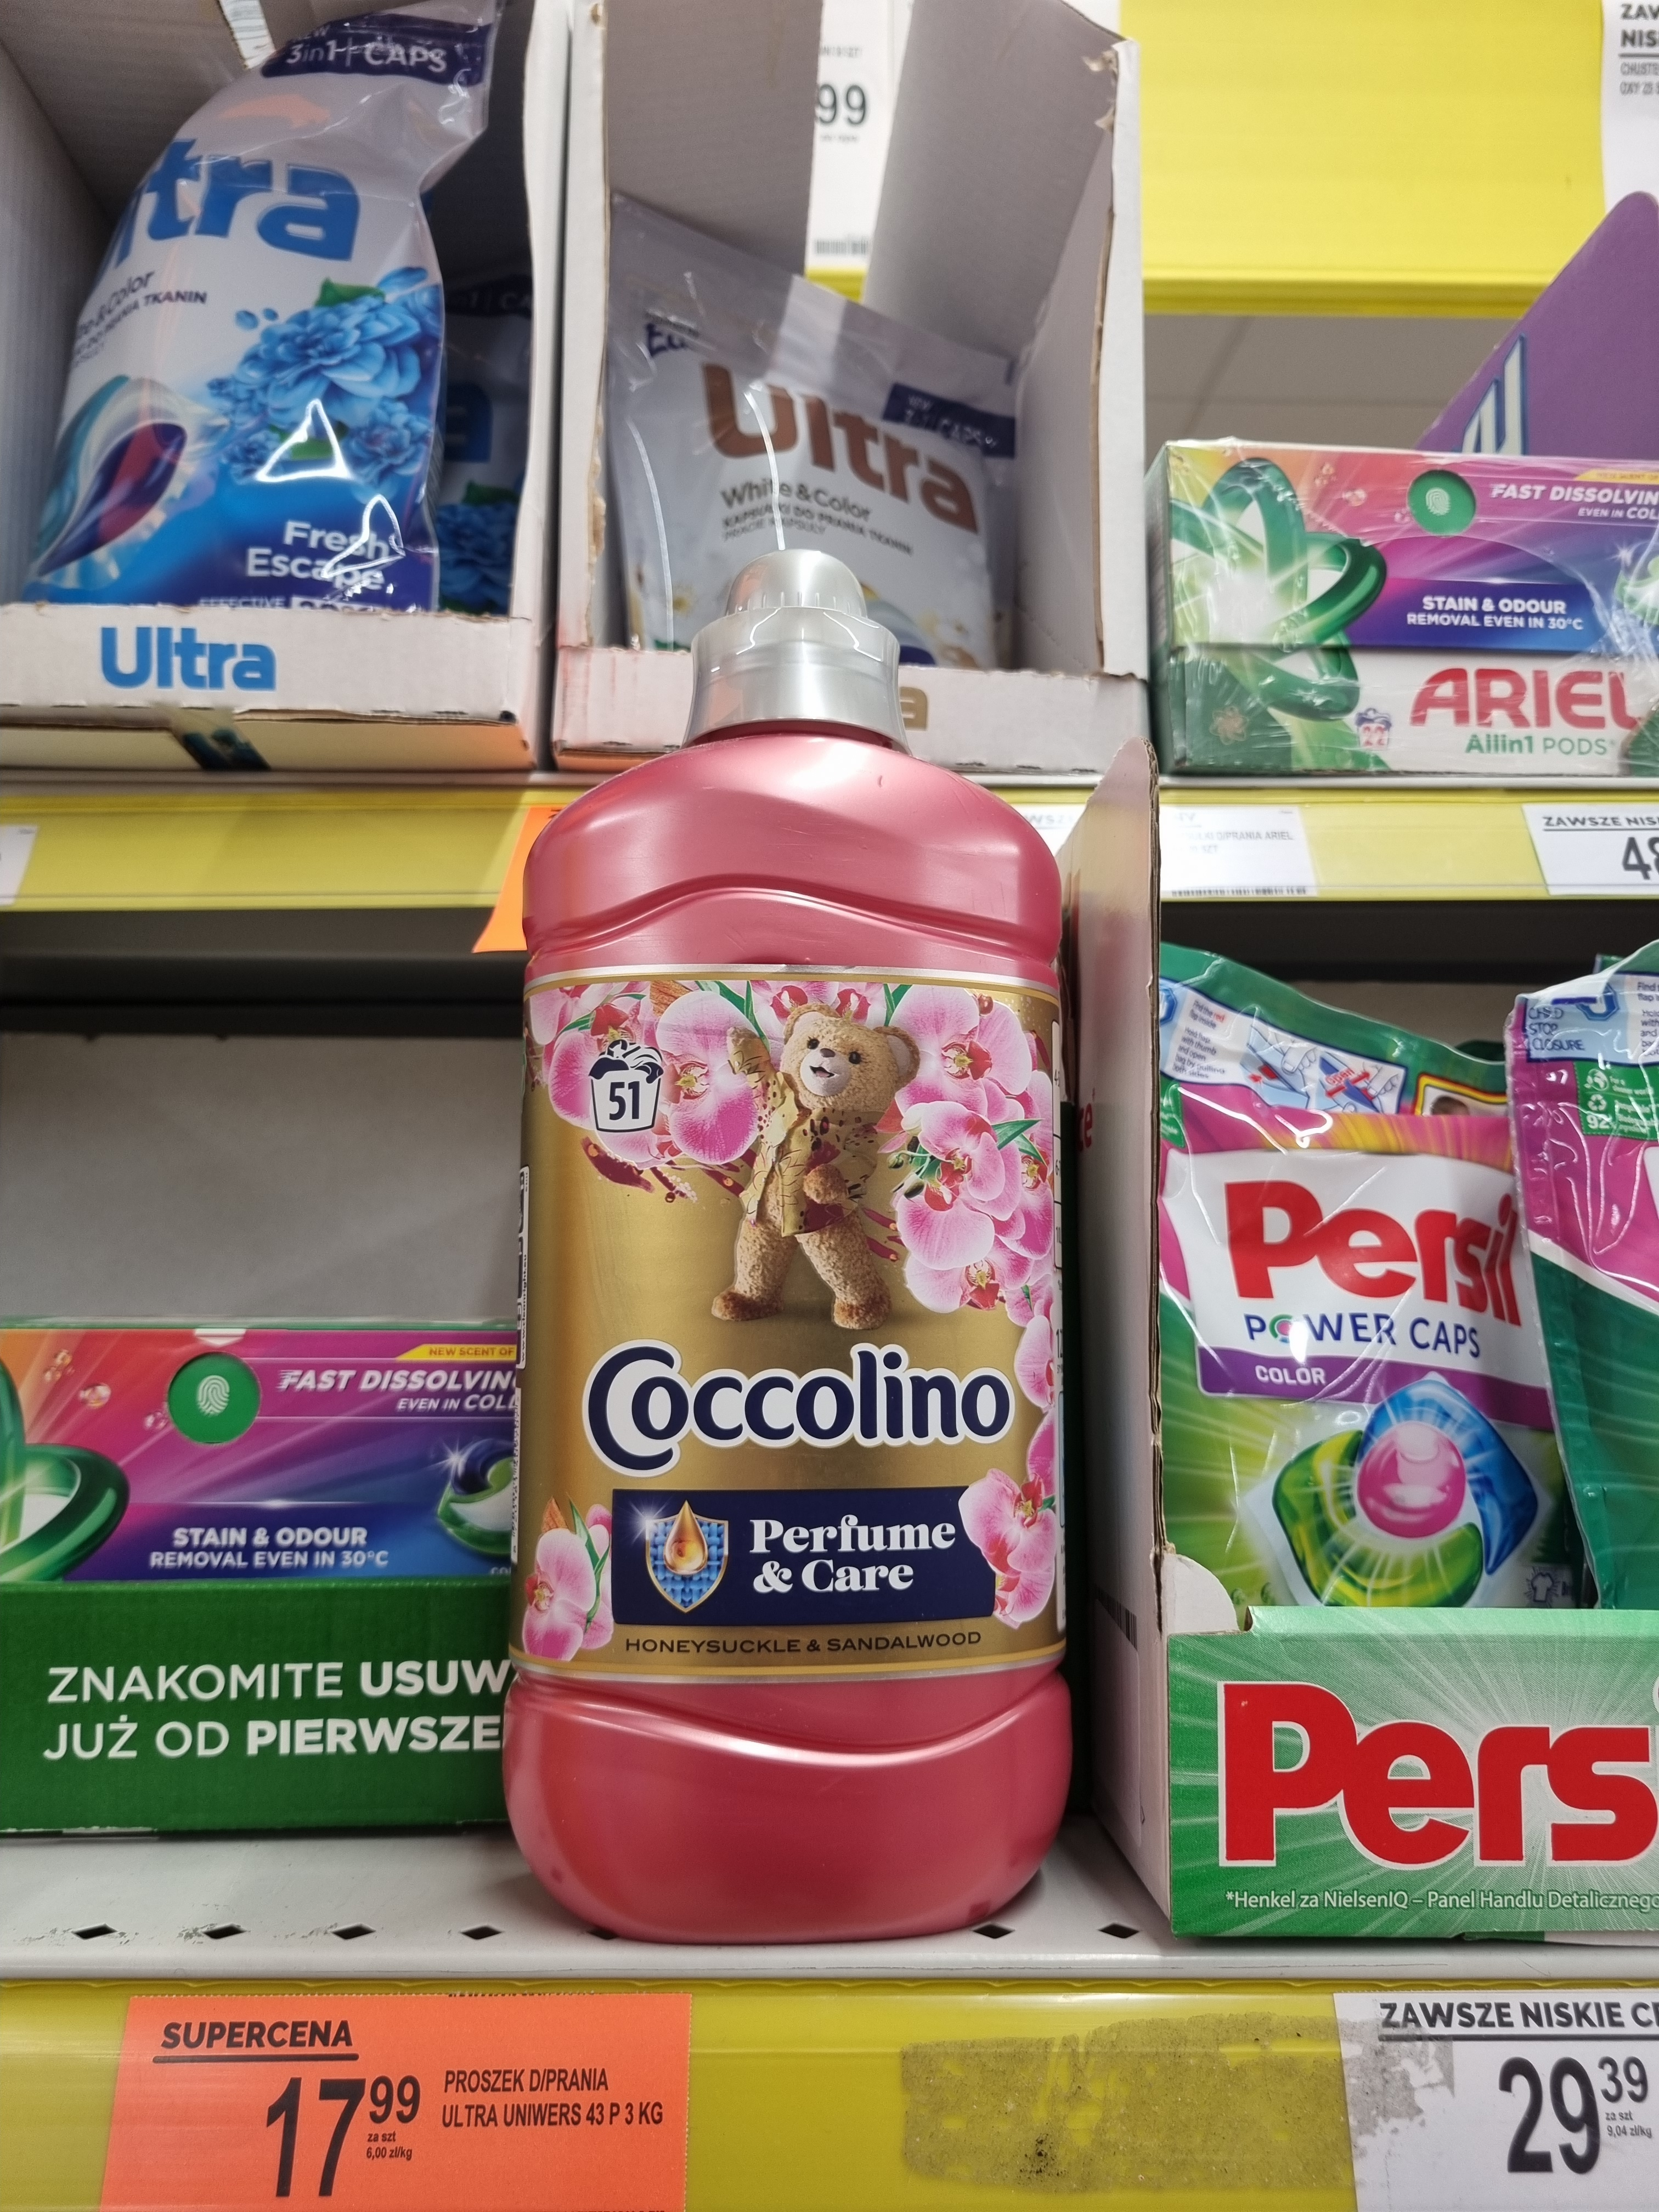cocolino: (516, 735, 1075, 1935)
